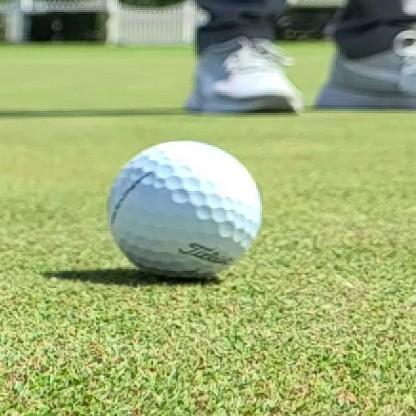golfball: (108, 141, 262, 279)
